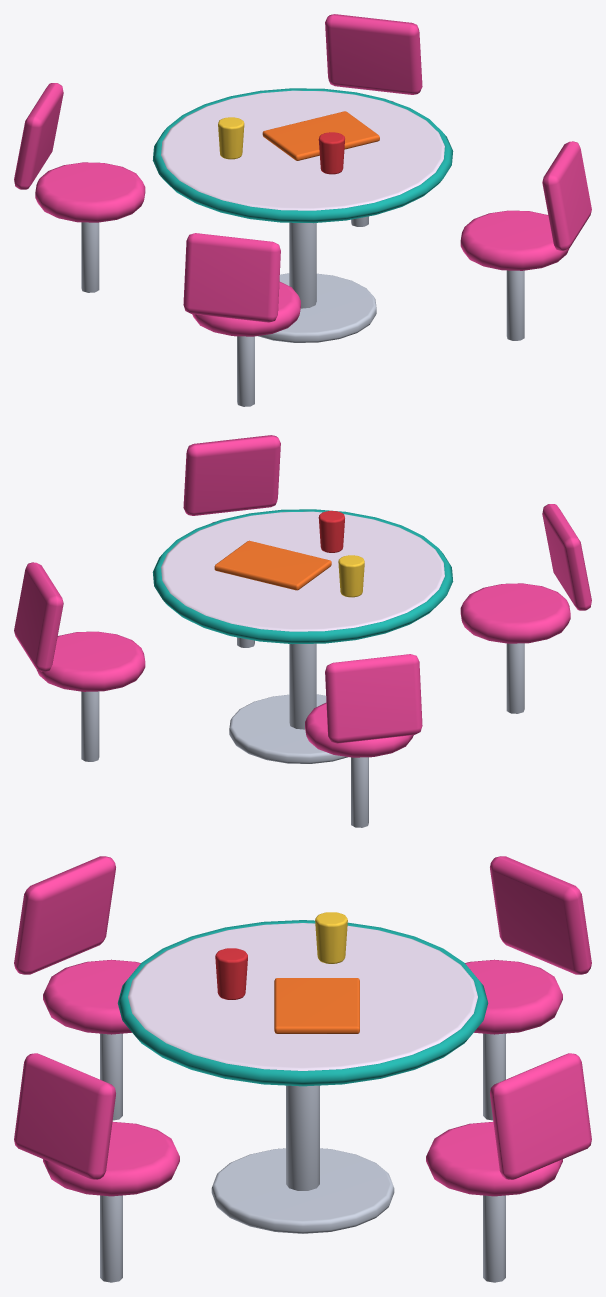
File: mall_table_set.glb
3 views of the same model, one above another, from view 1: azimuth 30°, elevation 25°; view 2: azimuth 150°, elevation 25°; view 3: azimuth 270°, elevation 25° (orthographic). The views are drawn at different scales.
Visible parts, largest first — view 1: TableSet; view 2: TableSet; view 3: TableSet.
Boxes of the visible parts, x1=… form: TableSet: x1=14, y1=14, x2=591, y2=406; TableSet: x1=14, y1=435, x2=591, y2=827; TableSet: x1=14, y1=856, x2=591, y2=1282.
Bounding box in the file's own units: 2.03 × 0.94 × 2.03.
